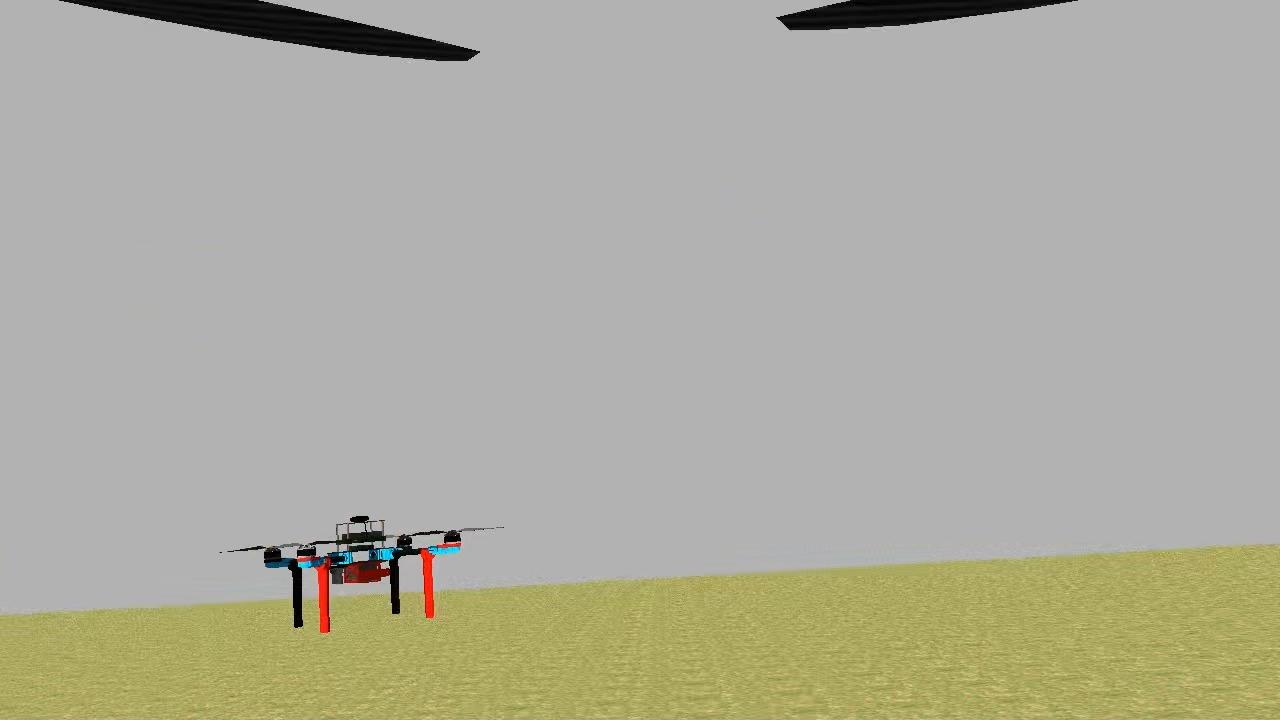UAV: (256, 508, 471, 640)
